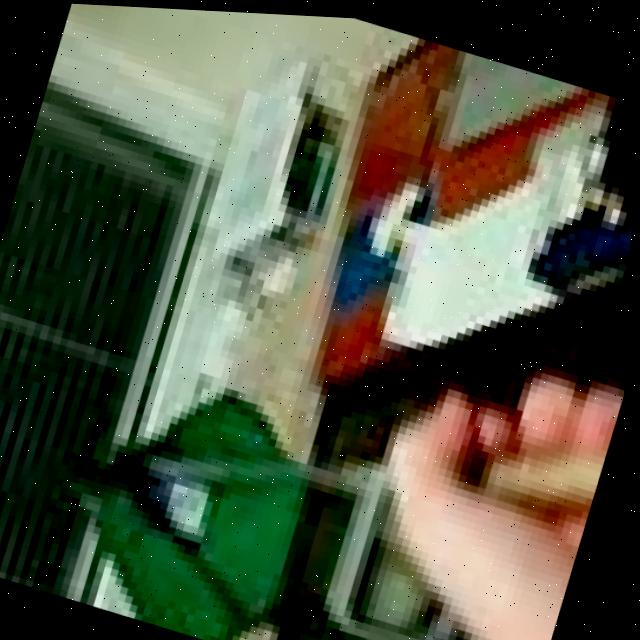knife: (140, 310, 617, 596)
